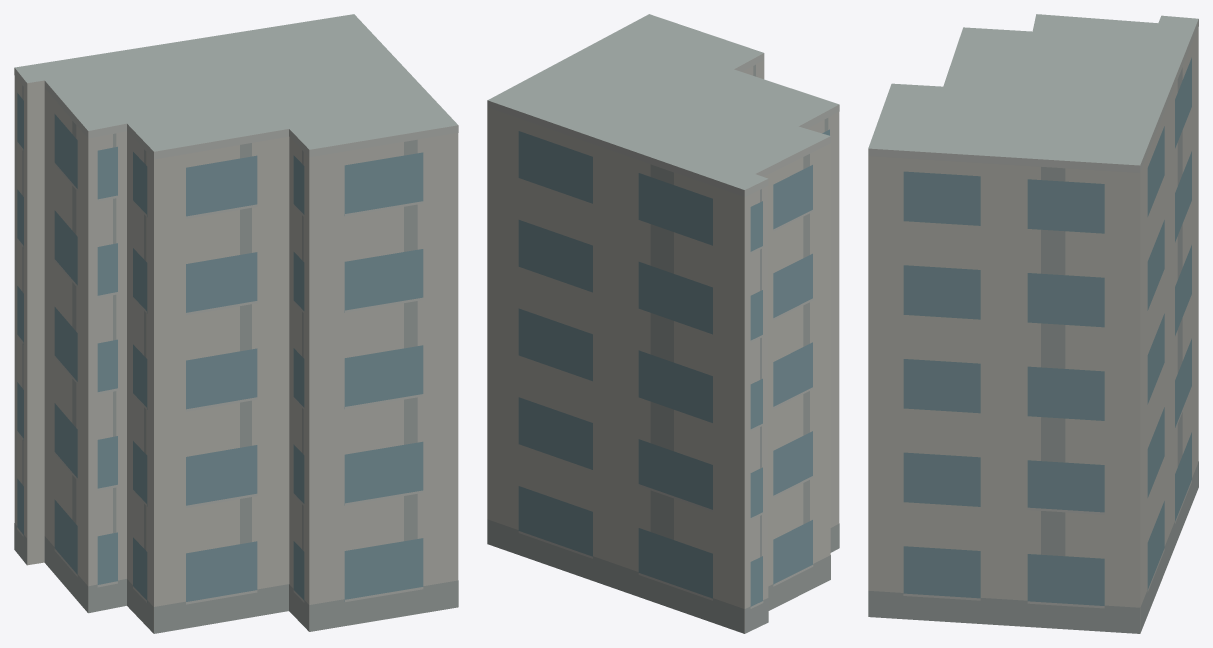
File: survey-upis-32807115.glb
3 views of the same model, side by side, from view 1: azimuth 30°, elevation 25°; view 2: azimuth 150°, elevation 25°; view 3: azimuth 270°, elevation 25° (orthographic). The views are drawn at different scales.
Visible parts, largest first — view 1: survey-upis-32807115.tmp; view 2: survey-upis-32807115.tmp; view 3: survey-upis-32807115.tmp.
Part boxes in pixels (x1,y1,x2,y2): survey-upis-32807115.tmp: (14,14,458,633); survey-upis-32807115.tmp: (487,14,839,633); survey-upis-32807115.tmp: (868,14,1198,633).
Bounding box in the file's own units: 10.59 × 15.25 × 9.77.
